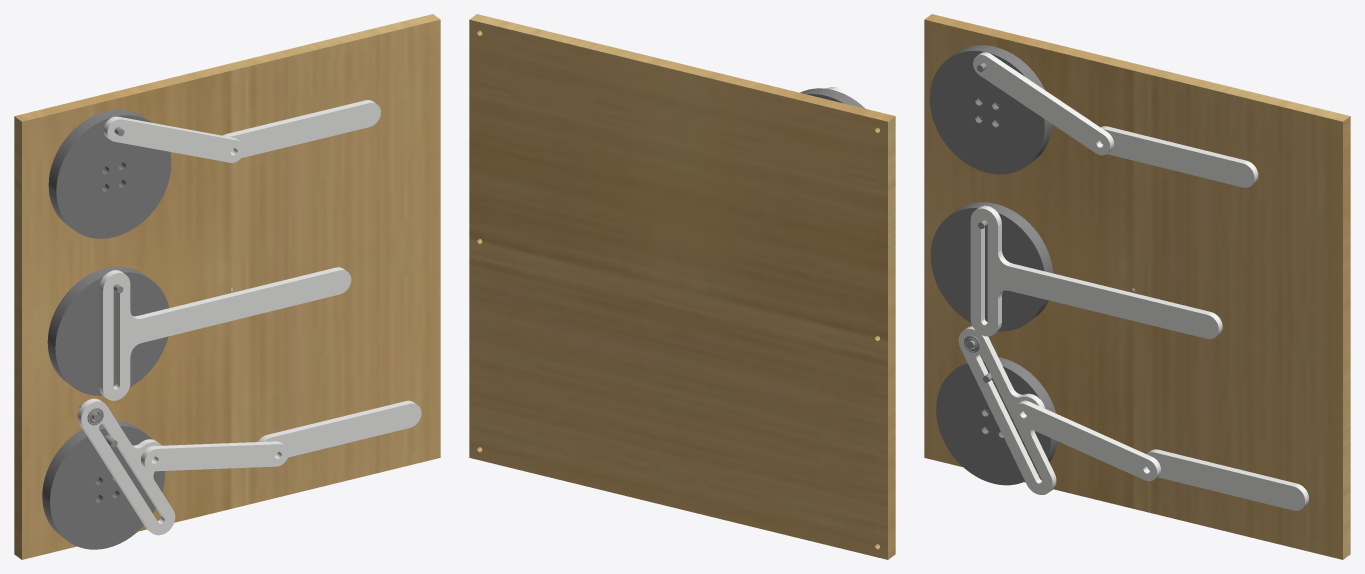
File: rotational-to-linear.glb
3 renders of one model, left to right at view 1: azimuth 30°, elevation 25°; view 2: azimuth 150°, elevation 25°; view 3: azimuth 330°, elevation 25°, orthographic.
Visible parts, largest first — view 1: _400x400panel, Body1.004, Body3, Body1.015, Body1.005, Body1.011, Body2.001, Body2, Body1.010, Body1.007, Body1.001, Body1.006 (+1 smaller); view 2: _400x400panel; view 3: _400x400panel, Body3, Body1.004, Body1.015, Body1.005, Body1.011, Body2.001, Body2, Body1.007, Body1.010, Body1.006, Body1.001.
Boxes of the visible parts, x1,y1,x2,y2 form: _400x400panel: (14, 14, 440, 559); Body1.004: (52, 112, 171, 238); Body3: (99, 267, 351, 400); Body1.015: (46, 423, 164, 549); Body1.005: (51, 269, 169, 395); Body1.011: (77, 398, 175, 535); Body2.001: (258, 400, 421, 457); Body2: (223, 100, 380, 157); Body1.010: (141, 441, 288, 471); Body1.007: (103, 116, 244, 162); Body1.001: (48, 109, 147, 226); Body1.006: (47, 266, 146, 383); _400x400panel: (469, 14, 895, 559); _400x400panel: (924, 14, 1350, 559); Body3: (970, 205, 1222, 339); Body1.004: (929, 48, 1048, 174); Body1.015: (936, 359, 1054, 485); Body1.005: (930, 205, 1048, 331); Body1.011: (958, 326, 1056, 494); Body2.001: (1146, 449, 1308, 510); Body2: (1100, 126, 1258, 187); Body1.007: (973, 52, 1113, 155); Body1.010: (1013, 400, 1160, 481); Body1.006: (955, 202, 1053, 318); Body1.001: (954, 45, 1052, 161).
Bounding box in the file's own units: 400 × 401 × 48.7.
Materials: 5 (1 with a texture image).
